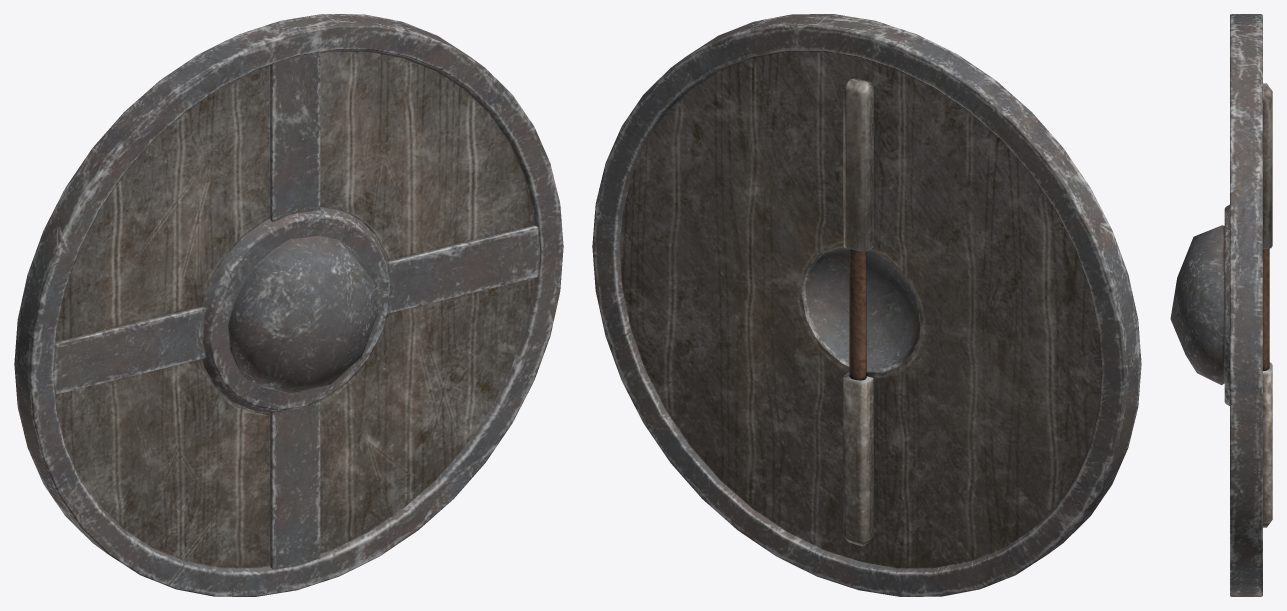
File: SM_Shield_01.fbx
3 views of the same model, side by side, from view 1: azimuth 30°, elevation 25°; view 2: azimuth 150°, elevation 25°; view 3: azimuth 270°, elevation 25° (orthographic). The views are drawn at different scales.
Parts seen in each view (by area): view 1: SM_Shield_01_LOD0; view 2: SM_Shield_01_LOD0; view 3: SM_Shield_01_LOD0.
Part boxes in pixels (x1=…): SM_Shield_01_LOD0: x1=14, y1=14, x2=563, y2=596; SM_Shield_01_LOD0: x1=592, y1=14, x2=1141, y2=596; SM_Shield_01_LOD0: x1=1170, y1=14, x2=1272, y2=596.
Size of the model in its own units: 78.23 by 13.68 by 78.23.
